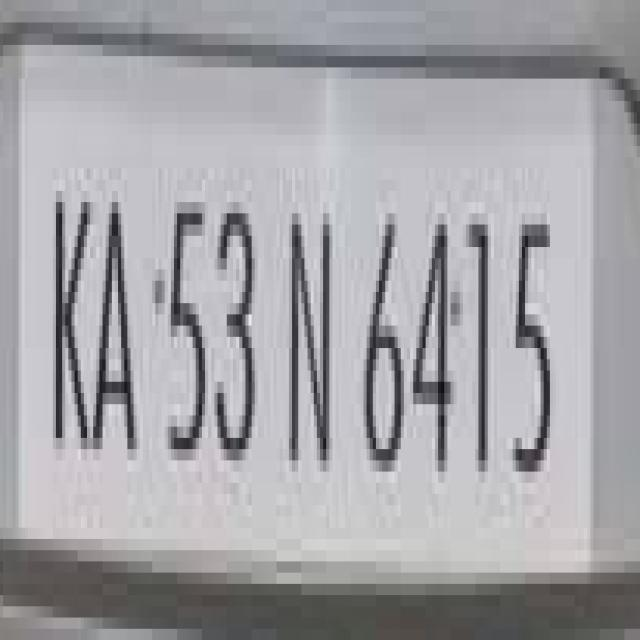license_plate: (25, 56, 640, 595)
